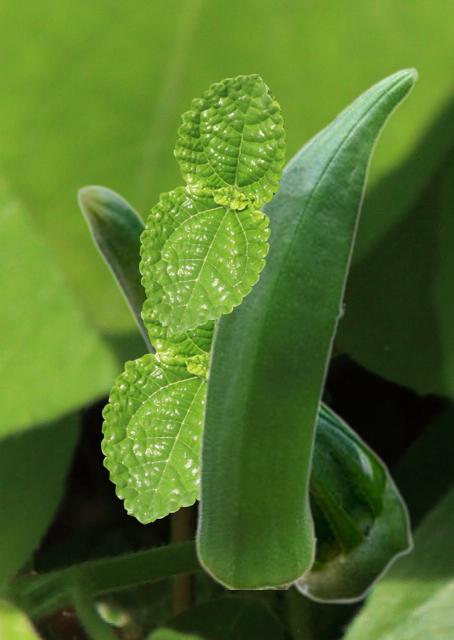okra: (75, 183, 413, 604), (193, 66, 418, 588)
